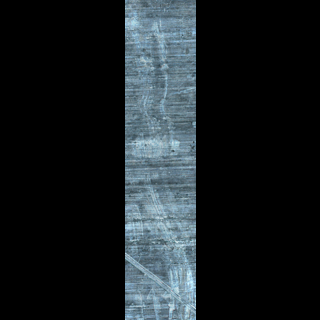d: (133, 15, 166, 158), (124, 248, 192, 317), (124, 173, 173, 246), (131, 128, 183, 162)
